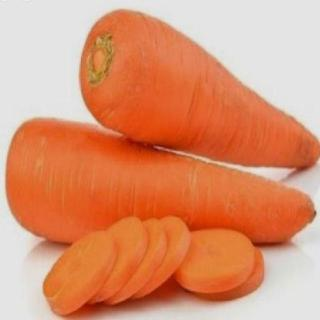carrot: (5, 113, 316, 249), (76, 2, 320, 174)
